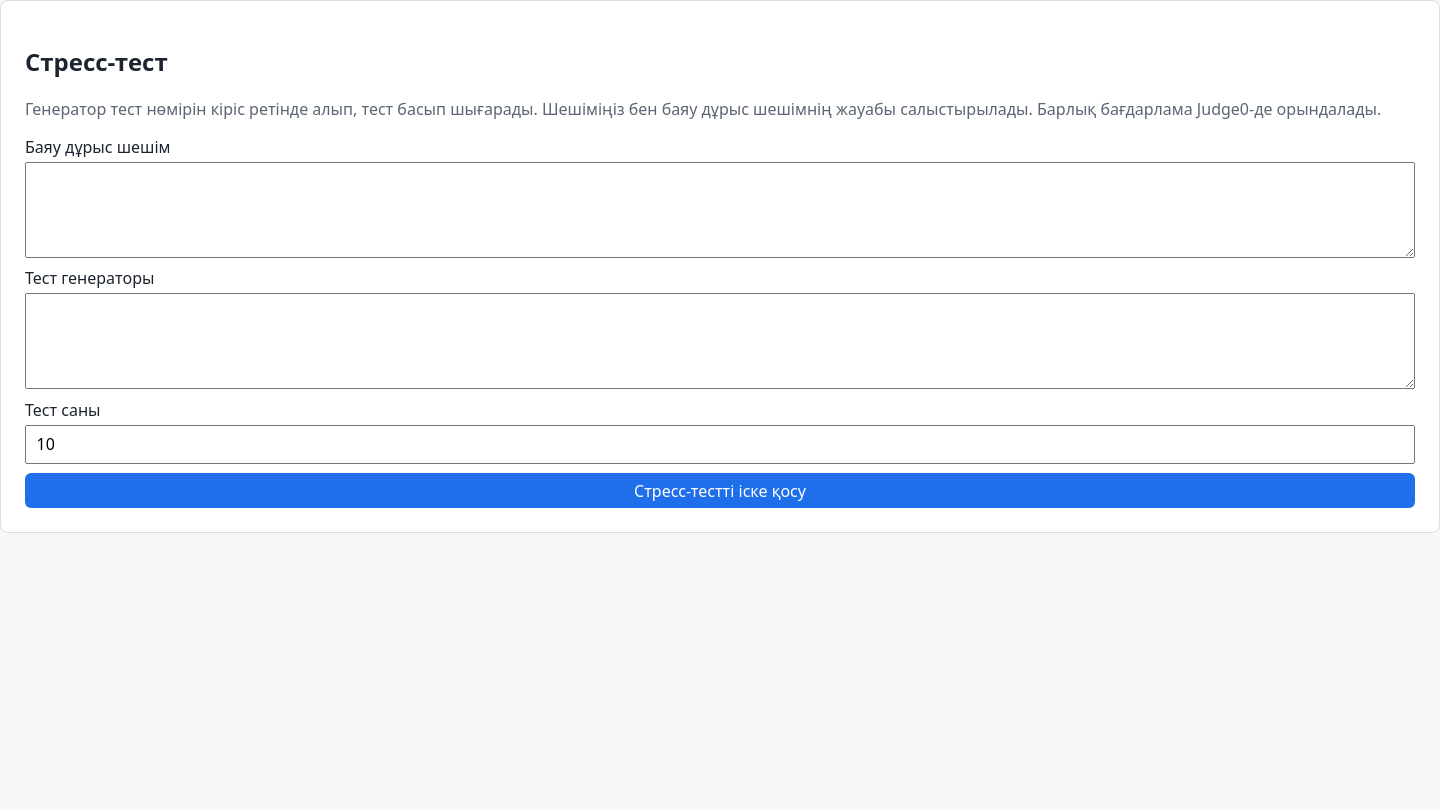
Test case: olympiad part › ot06: the stress test shows the input where answers differ
The image size is (1440, 810).
In the text box labelled "Баяу дұрыс шешім": (720, 210) left=25, top=162, right=1415, bottom=258, type "brute"
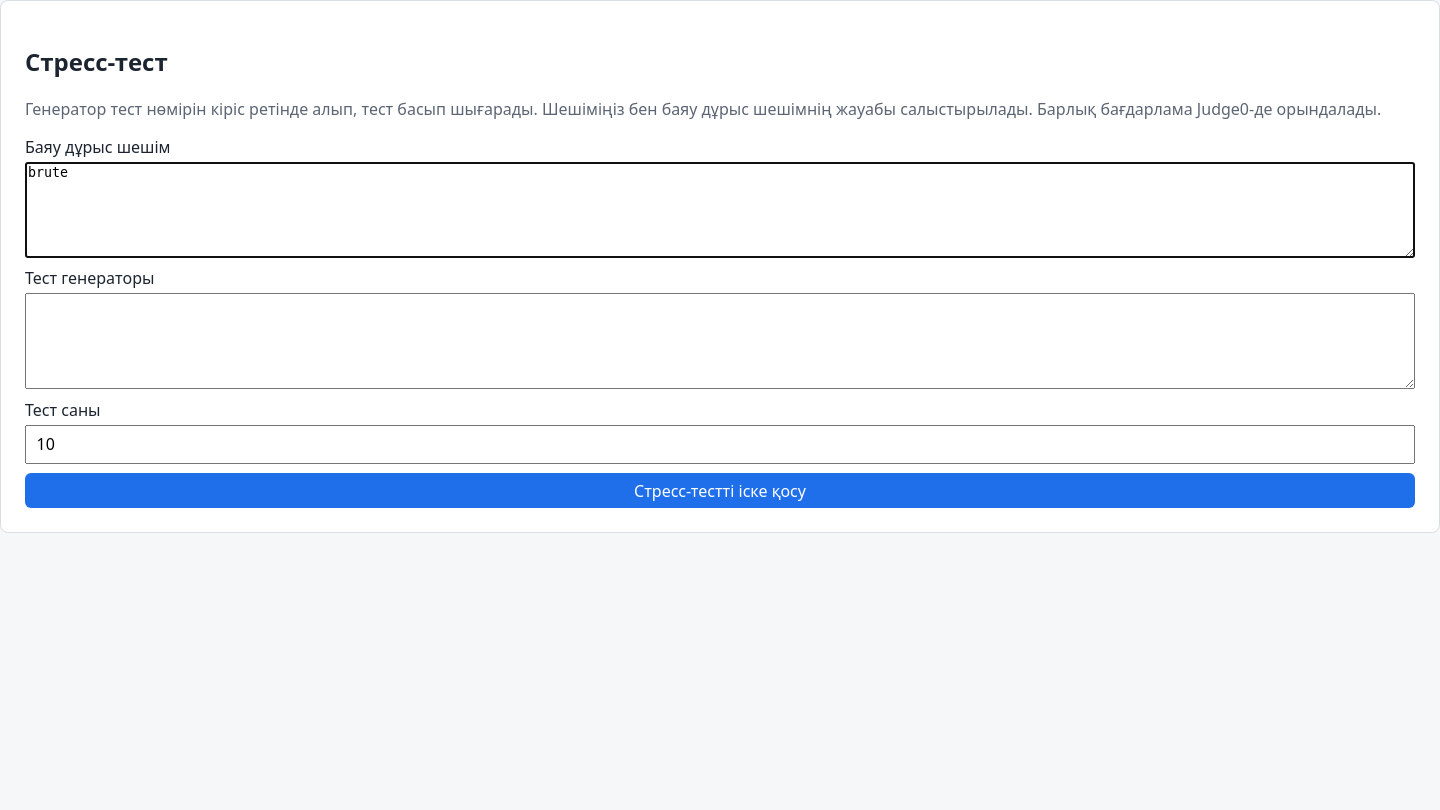
In the text box labelled "Тест генераторы": (720, 341) left=25, top=293, right=1415, bottom=389, type "gen"
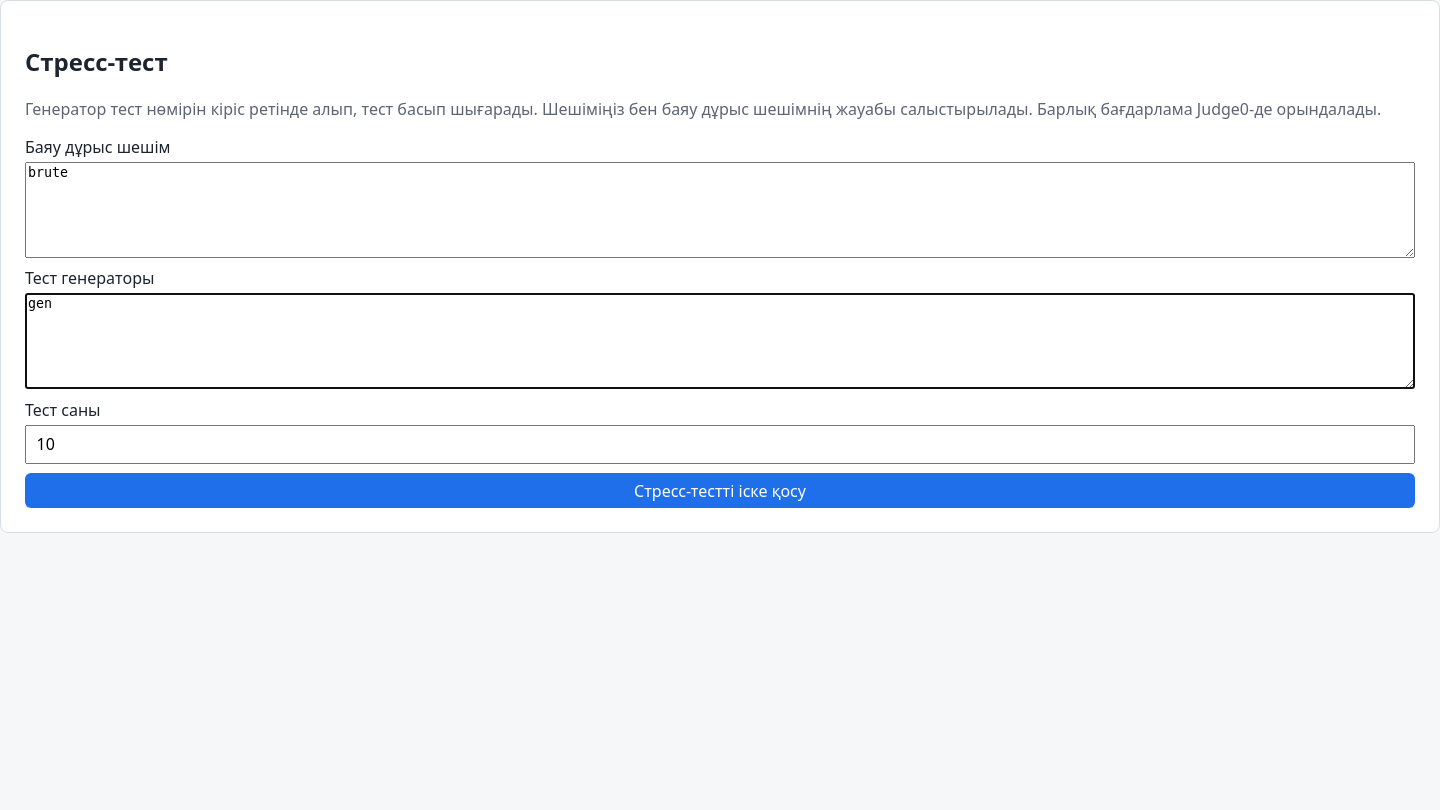
Click the button "Стресс-тестті іске қосу": (720, 491) left=25, top=473, right=1415, bottom=508
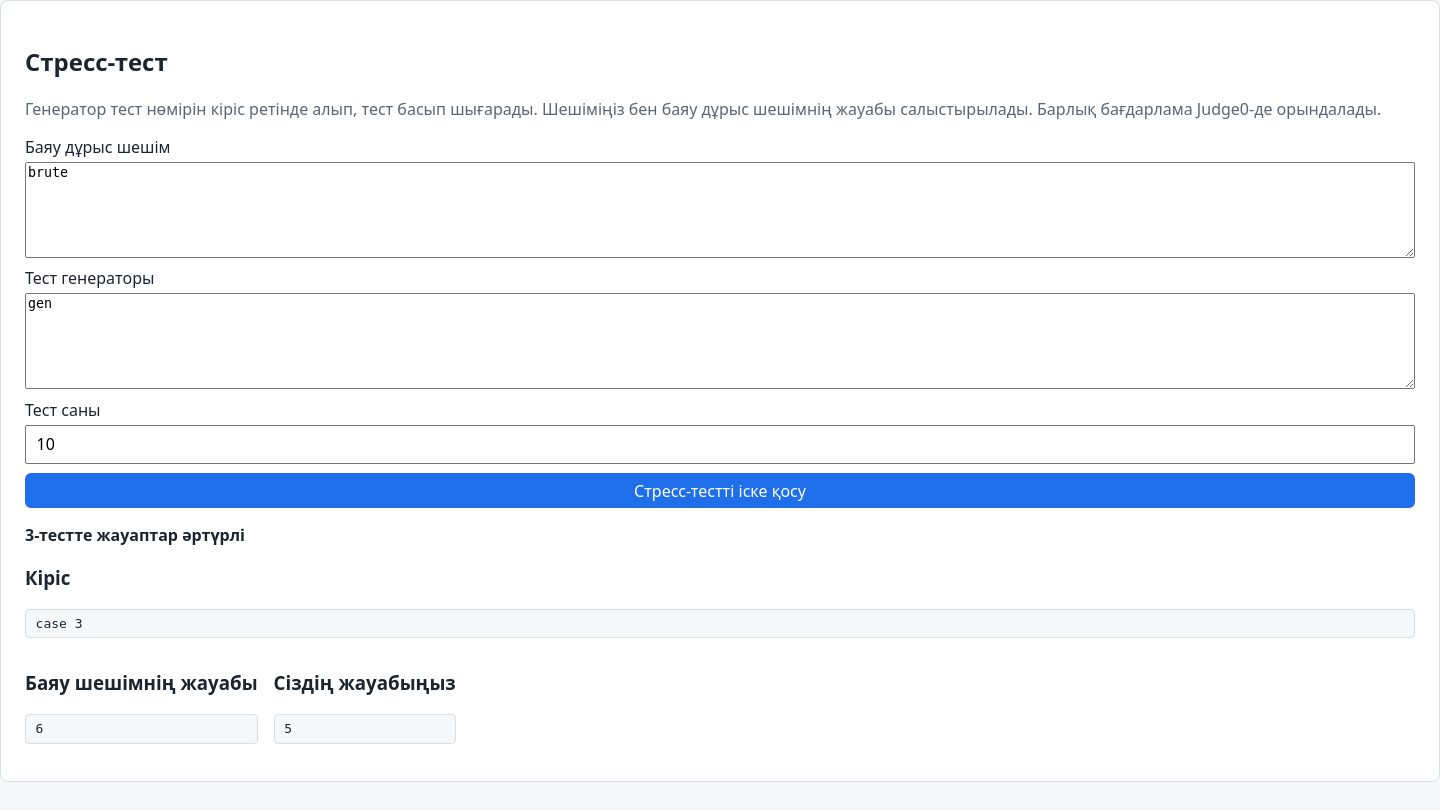
Expected: the text "3-тестте жауаптар әртүрлі" is shown, left=25, top=524, right=245, bottom=546
Expected: the text "case 3" is shown, left=25, top=609, right=1415, bottom=638
